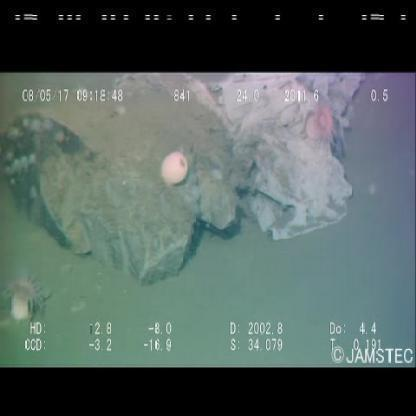Rác: (0, 72, 384, 274)
